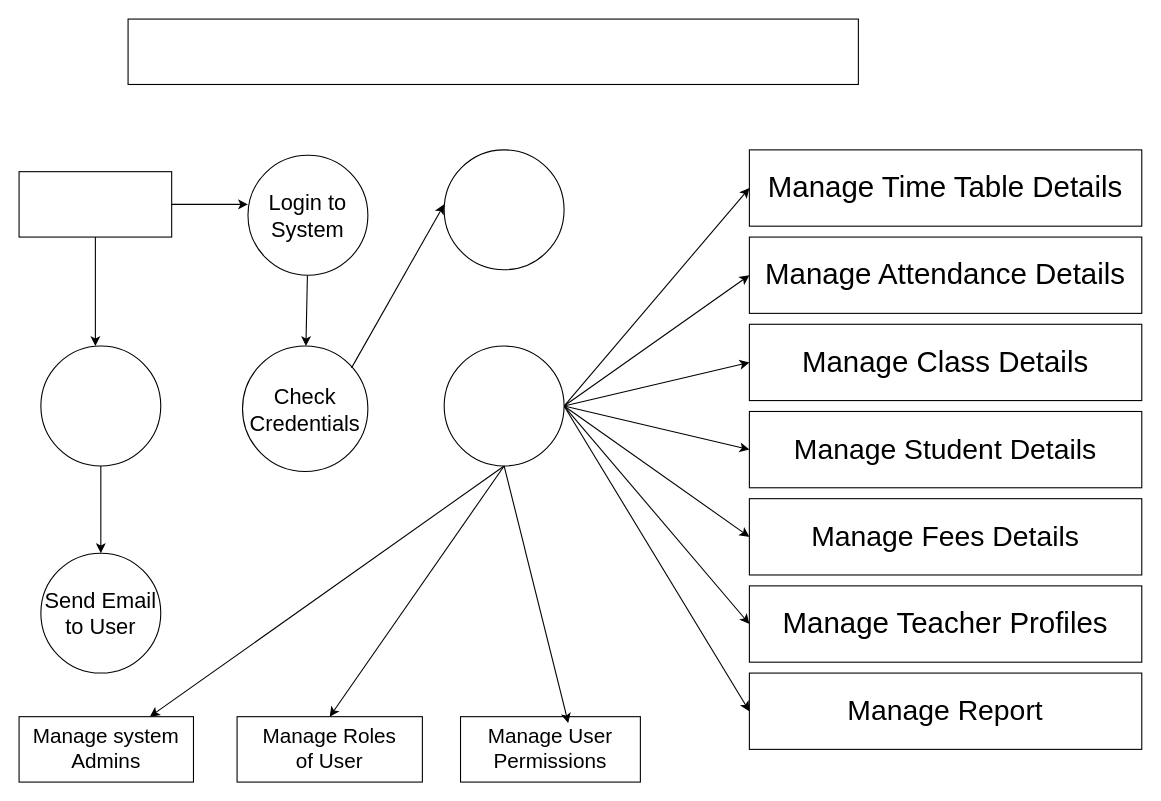
Image size: 1161x801. Some labels were removed from this diagram. The centre of each missing label's shape, as x and y in pixels:
Admin: point (95, 204)
check Roles of Access: point (503, 209)
Forgot Password: point (100, 405)
Manage Modules: point (503, 405)
STUDENT INFORMATION SYSTEM: point (492, 51)
